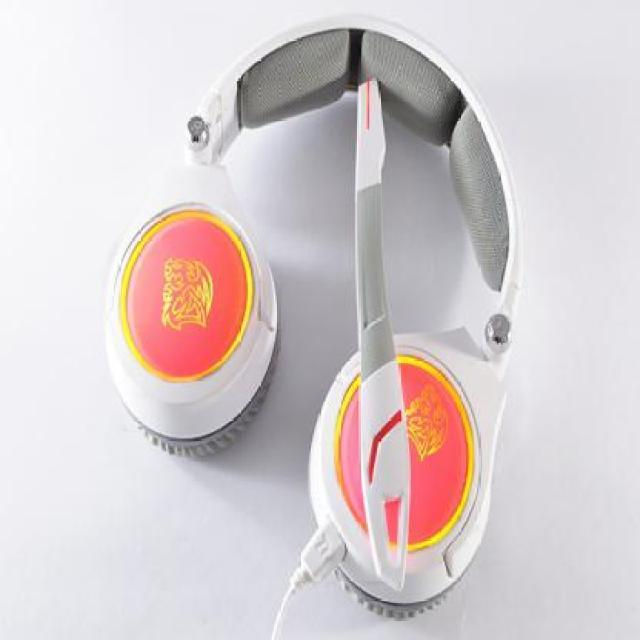earphone: (96, 14, 552, 600)
